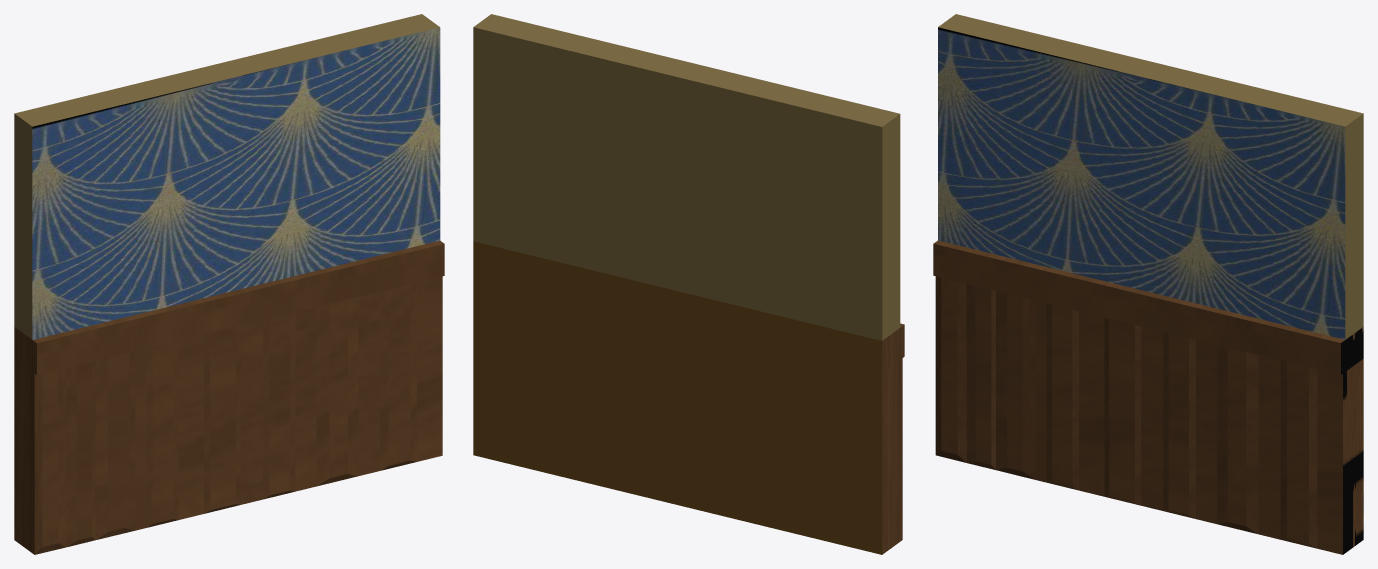
File: Mur2.glb
3 renders of one model, left to right at view 1: azimuth 30°, elevation 25°; view 2: azimuth 150°, elevation 25°; view 3: azimuth 330°, elevation 25°, orthographic.
Parts seen in each view (by area): view 1: Mur; view 2: Mur; view 3: Mur.
Boxes of the visible parts, left/top/right/bottom form: Mur: left=14, top=14, right=444, bottom=554; Mur: left=473, top=14, right=904, bottom=554; Mur: left=933, top=14, right=1363, bottom=554.
Size of the model in its own units: 2 by 2 by 0.1913.
Materials: 4 (2 with a texture image).
